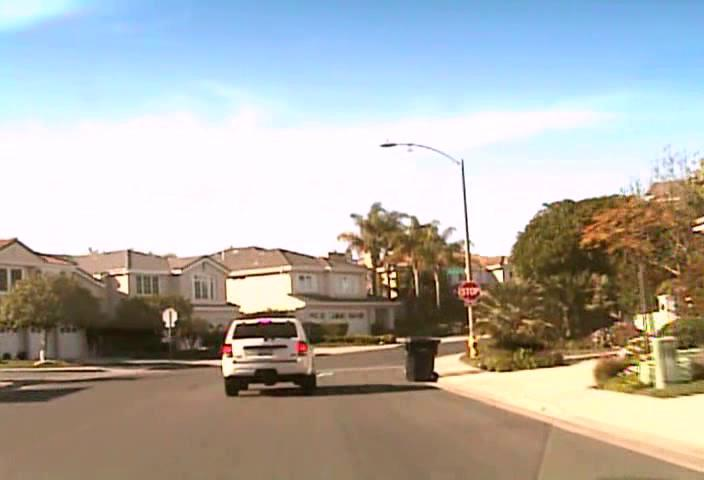stop: (457, 280, 482, 304)
